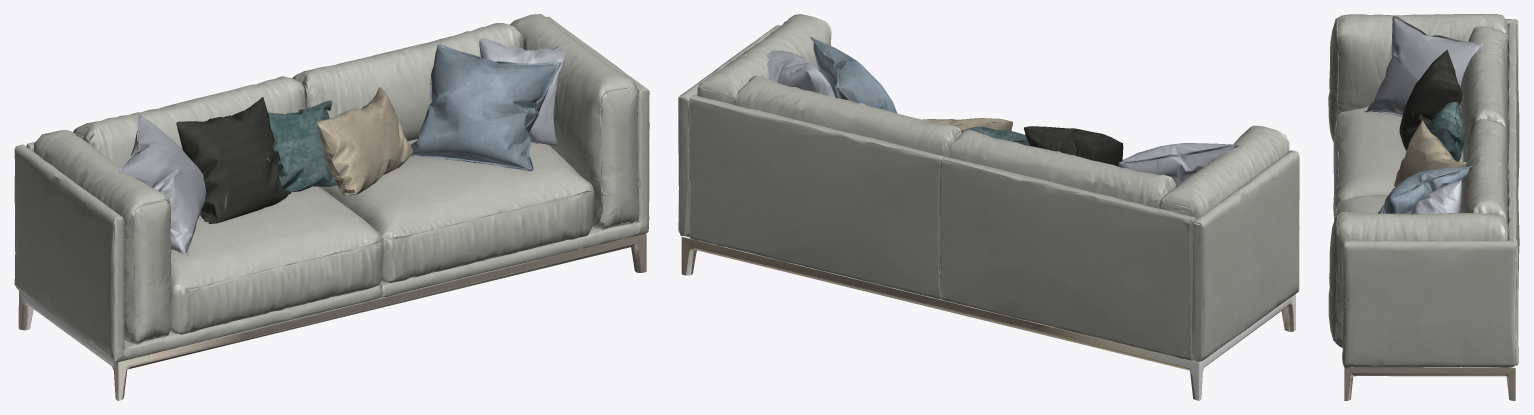
The model's file is raw_model.obj.
The picture shows the model from 3 angles, left to right: view 1: azimuth 30°, elevation 25°; view 2: azimuth 150°, elevation 25°; view 3: azimuth 270°, elevation 25°; orthographic projection. The views are drawn at different scales.
Visible parts, largest first — view 1: solid_005, solid_003, solid_004, solid_007, solid_006, solid_002, solid_001; view 2: solid_005, solid_006, solid_007, solid_003, solid_004, solid_002, solid_001; view 3: solid_005, solid_007, solid_004, solid_006, solid_003, solid_002, solid_001.
Boxes of the visible parts, x1,y1,x2,y2 form: solid_005: (14, 14, 649, 362); solid_003: (410, 44, 561, 171); solid_004: (176, 97, 290, 223); solid_007: (118, 38, 565, 255); solid_006: (18, 202, 646, 400); solid_002: (317, 87, 413, 195); solid_001: (268, 100, 336, 192); solid_005: (678, 14, 1299, 361); solid_006: (681, 235, 1295, 400); solid_007: (766, 50, 1239, 185); solid_003: (810, 37, 897, 113); solid_004: (1024, 126, 1123, 166); solid_002: (922, 118, 1012, 130); solid_001: (961, 126, 1029, 145); solid_005: (1328, 14, 1519, 368); solid_007: (1363, 15, 1483, 214); solid_004: (1399, 49, 1462, 150); solid_006: (1344, 239, 1515, 400); solid_003: (1378, 166, 1473, 214); solid_002: (1394, 120, 1467, 186); solid_001: (1427, 102, 1464, 161).
Bounding box in the file's own units: 2.05 × 0.7522 × 0.7238.
Materials: 1 (1 with a texture image).
